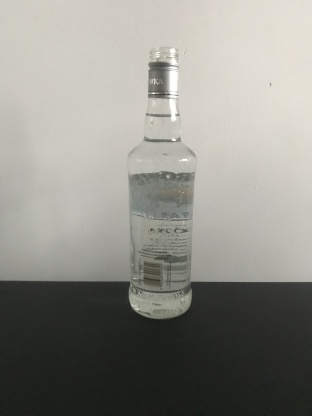nakretka: (146, 44, 180, 98)
